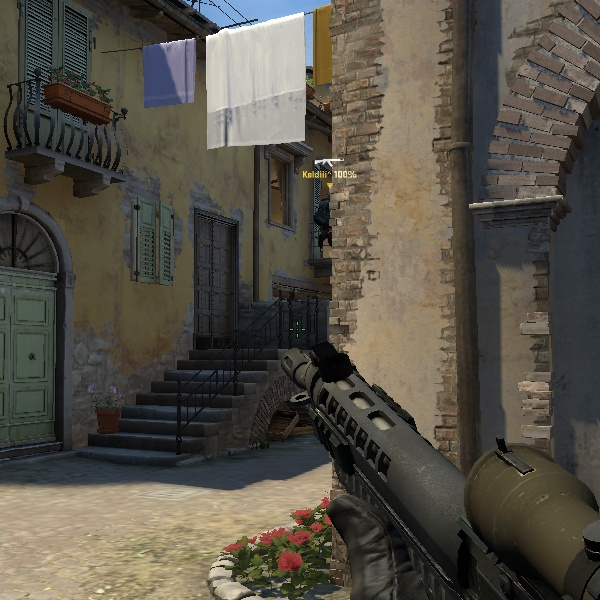t_body: (309, 193, 339, 249)
